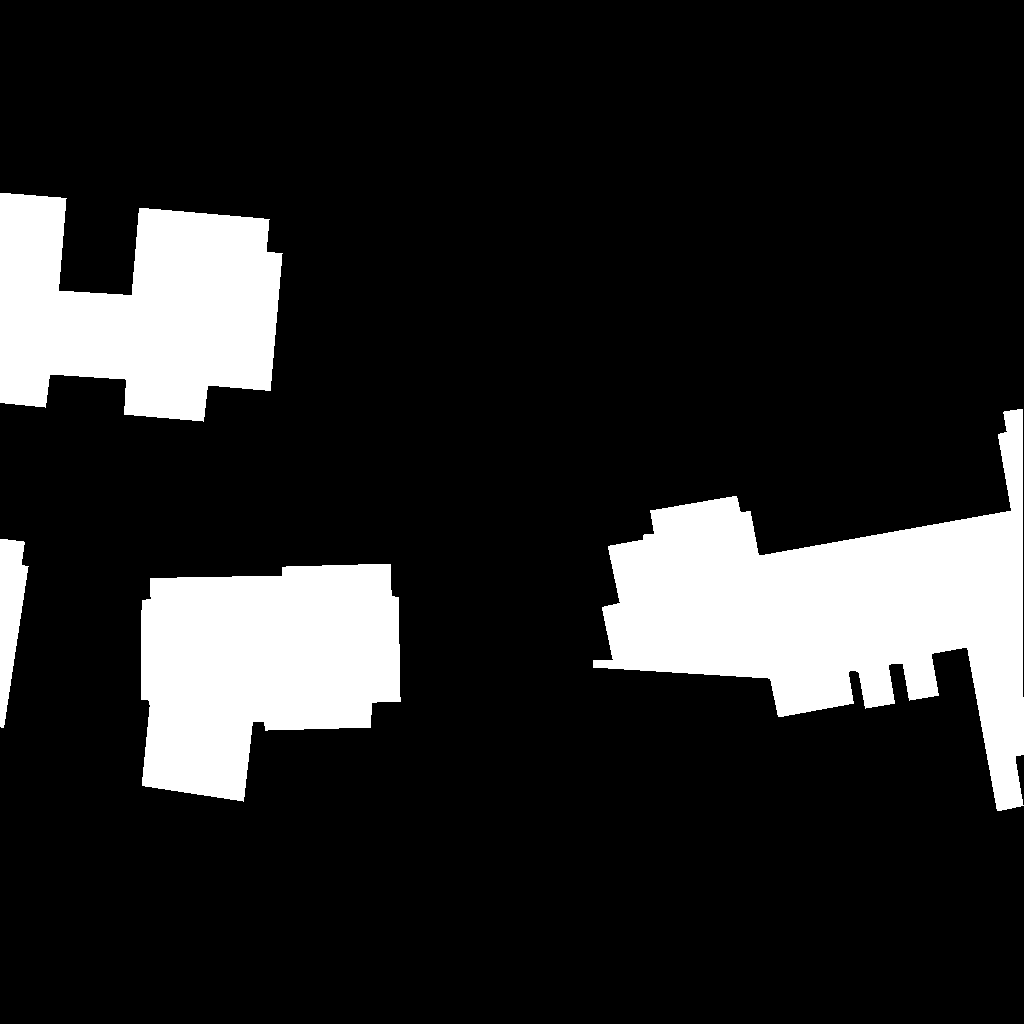building: (593, 409, 1024, 812), (0, 193, 283, 422), (141, 564, 401, 802), (0, 539, 29, 729)
